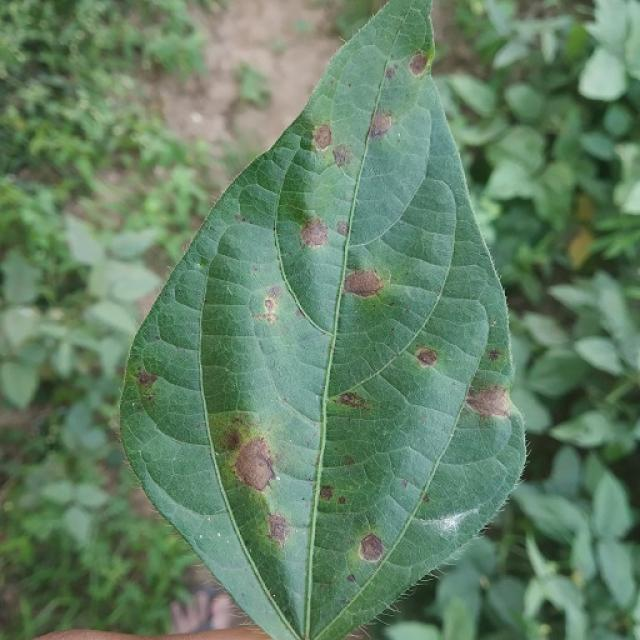Anthracnose: (233, 437, 277, 493), (334, 261, 388, 301), (465, 385, 511, 419), (254, 291, 282, 327), (299, 217, 329, 248), (309, 117, 335, 152), (266, 512, 290, 547), (358, 531, 385, 562), (367, 109, 393, 138), (336, 391, 369, 410), (332, 143, 354, 168), (135, 370, 158, 392), (409, 52, 429, 75), (224, 428, 243, 451), (416, 349, 437, 367)
Blackgram: (121, 0, 524, 639)
